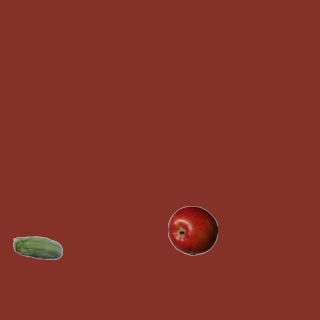Apple Braeburn: (167, 205, 217, 255)
Corn Husk: (12, 224, 62, 274)
